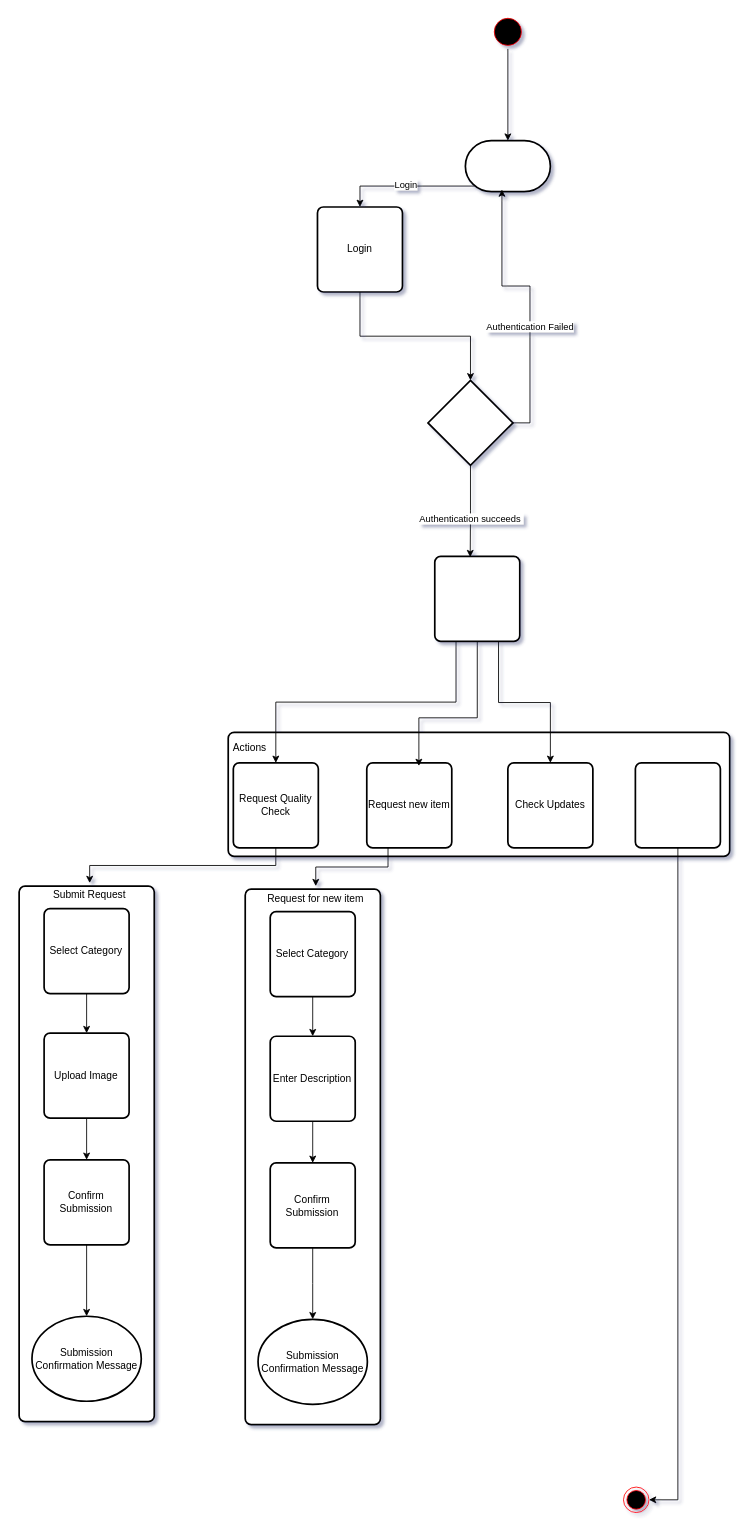
Some shapes in this 750 by 1533 pixel diagram are drawn without their labels. Here are the shapes that lost their labels. From the top down, the centre of each, then its label:
At point 507,165: "Idle".
At point 470,422: "Univesity staff Authentication".
At point 477,598: "University staff Dashboard".
At point 677,805: "Logout".
